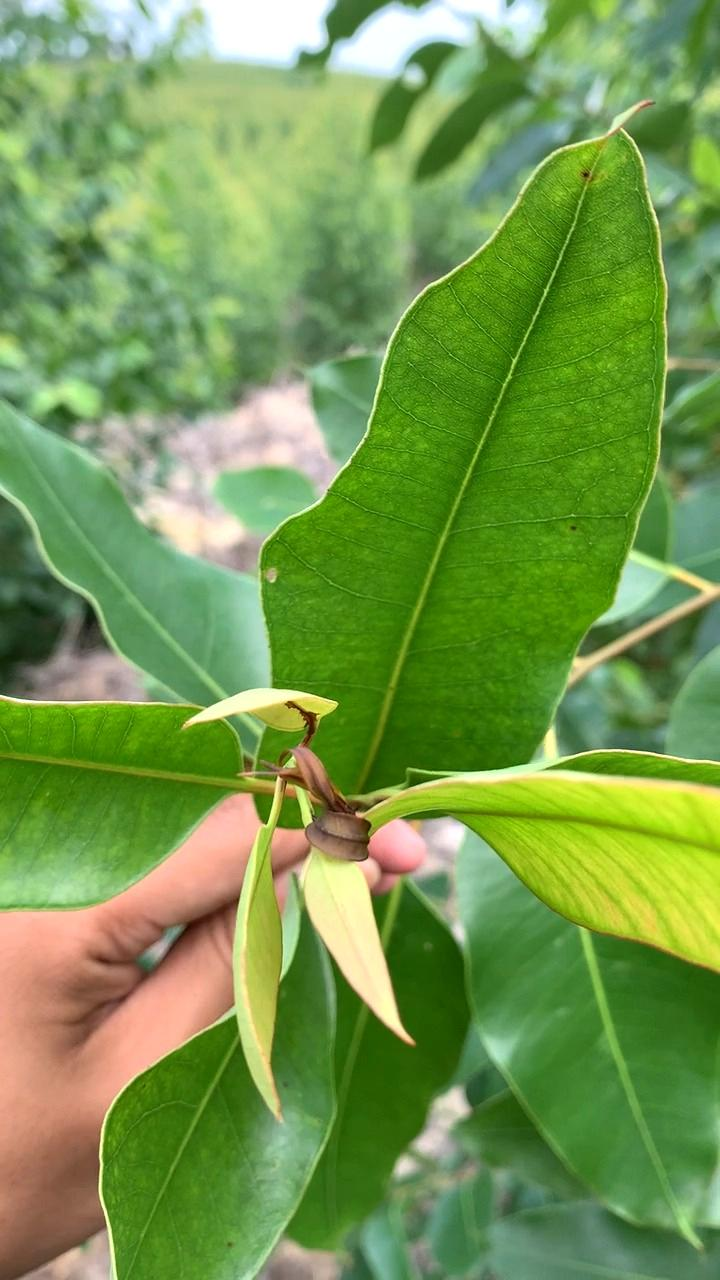Helopeltis-Withered Sprout: (265, 736, 383, 871)
